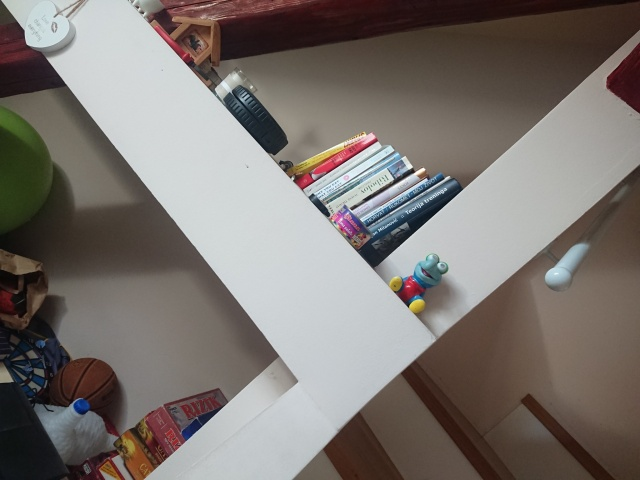Giana Tuna Salad Mexico 185g: (326, 202, 376, 253)
